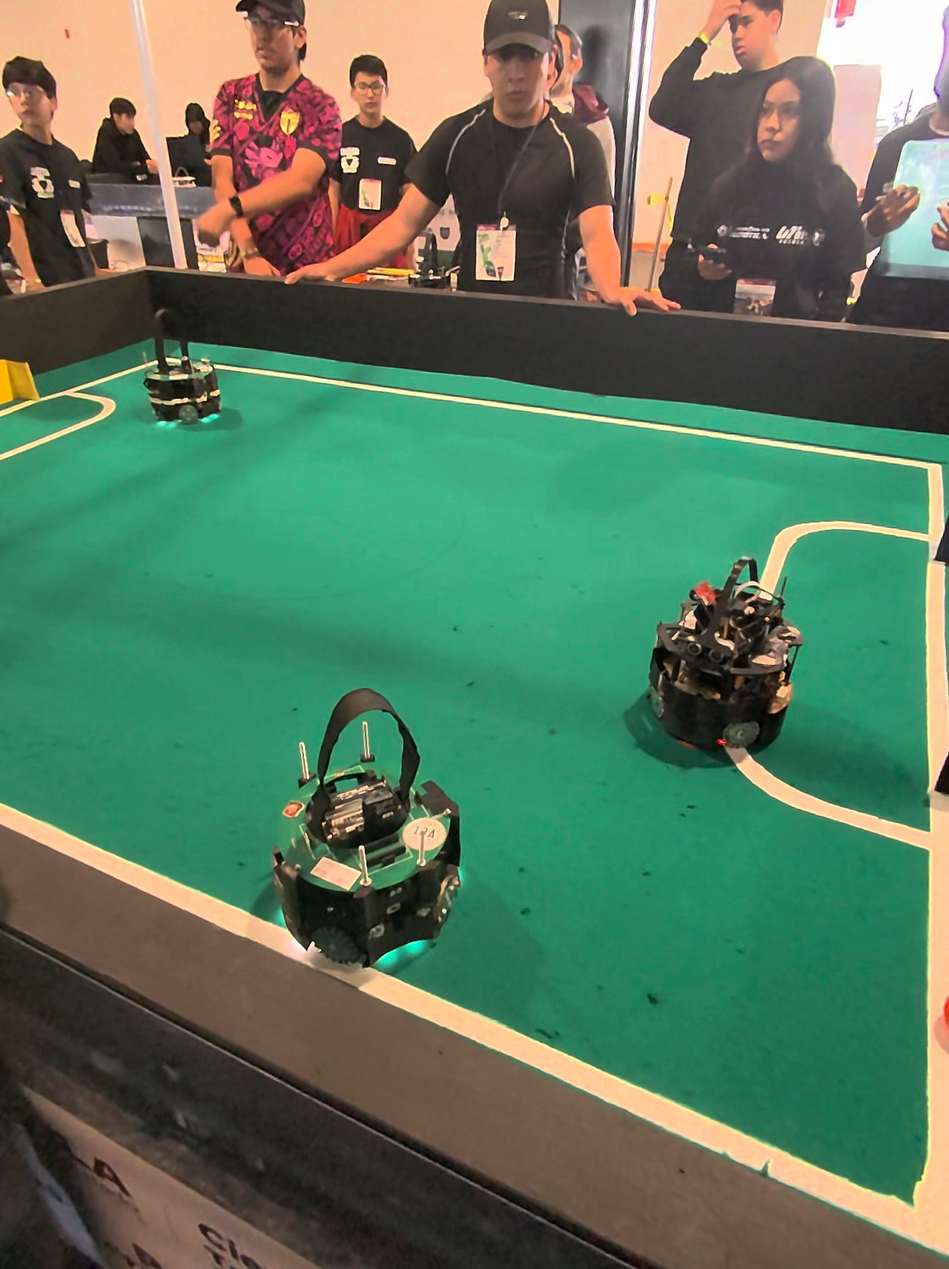Robot: (278, 679, 481, 992), (646, 554, 808, 776), (141, 320, 227, 439)
